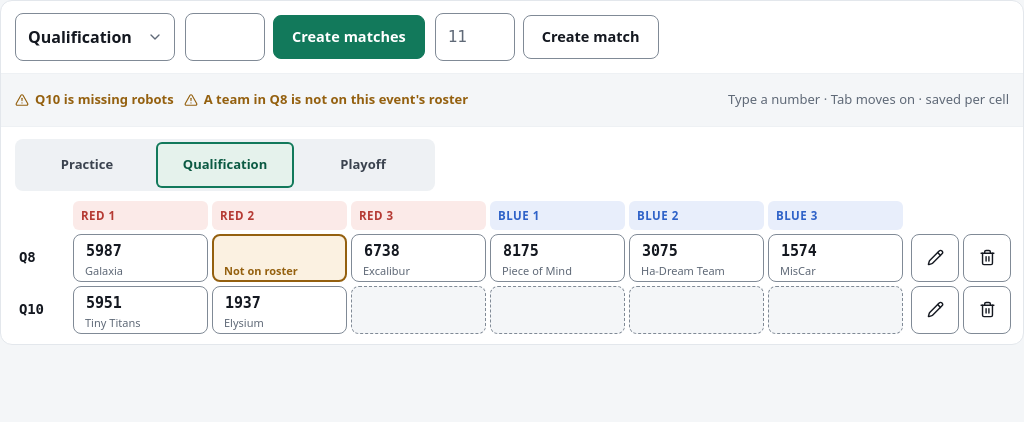
Test case: MatchesPanel › retries a failed registry read on the next successful save, then offers the add link
Expected: the text "A team in Q8 is not on this event's roster" is shown, x1=184 y1=90 x2=468 y2=108
Expected: the button "to the roster" is not shown
Type "6230" into the 9th dropdown named "Q10 Red 3" at (418, 310), box x1=351 y1=286 x2=486 y2=334
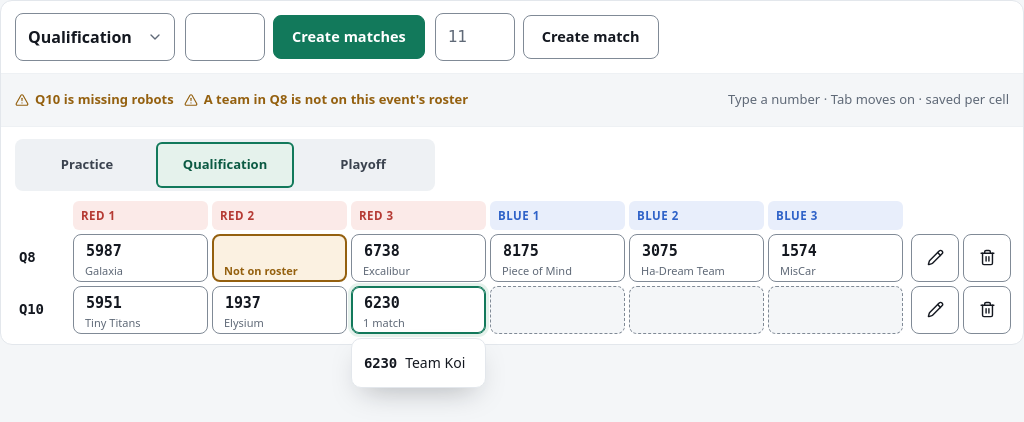
Press Tab
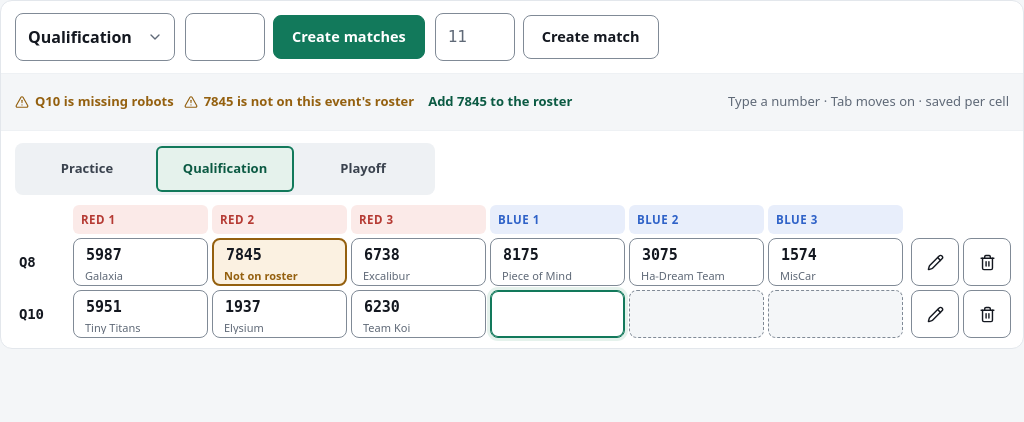
Result: the button "Add 7845 to the roster" is shown at x1=424 y1=78 x2=576 y2=126
